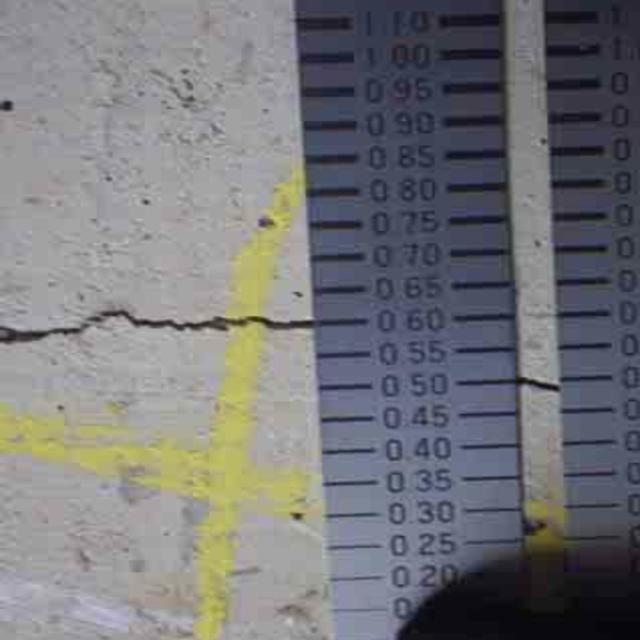crack: (3, 298, 333, 373), (504, 364, 567, 406)
